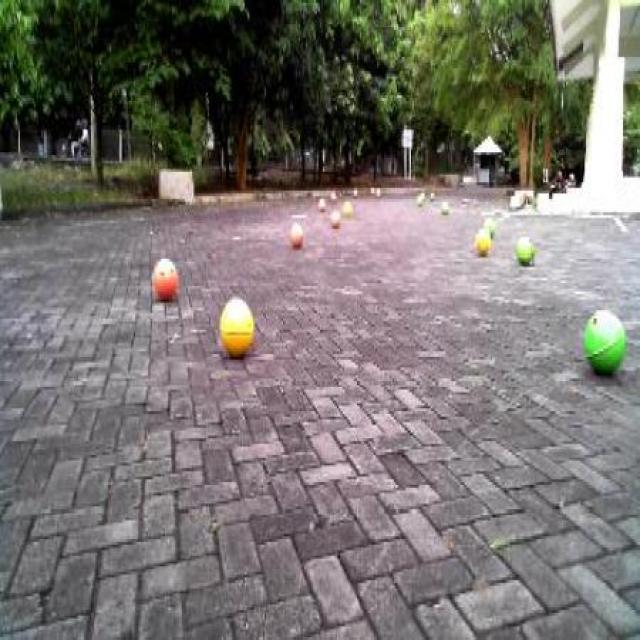buoy: (573, 293, 633, 391), (213, 282, 260, 369), (144, 235, 189, 312), (510, 222, 542, 276), (283, 210, 307, 254), (471, 219, 492, 263), (434, 188, 455, 223), (326, 198, 345, 234)
